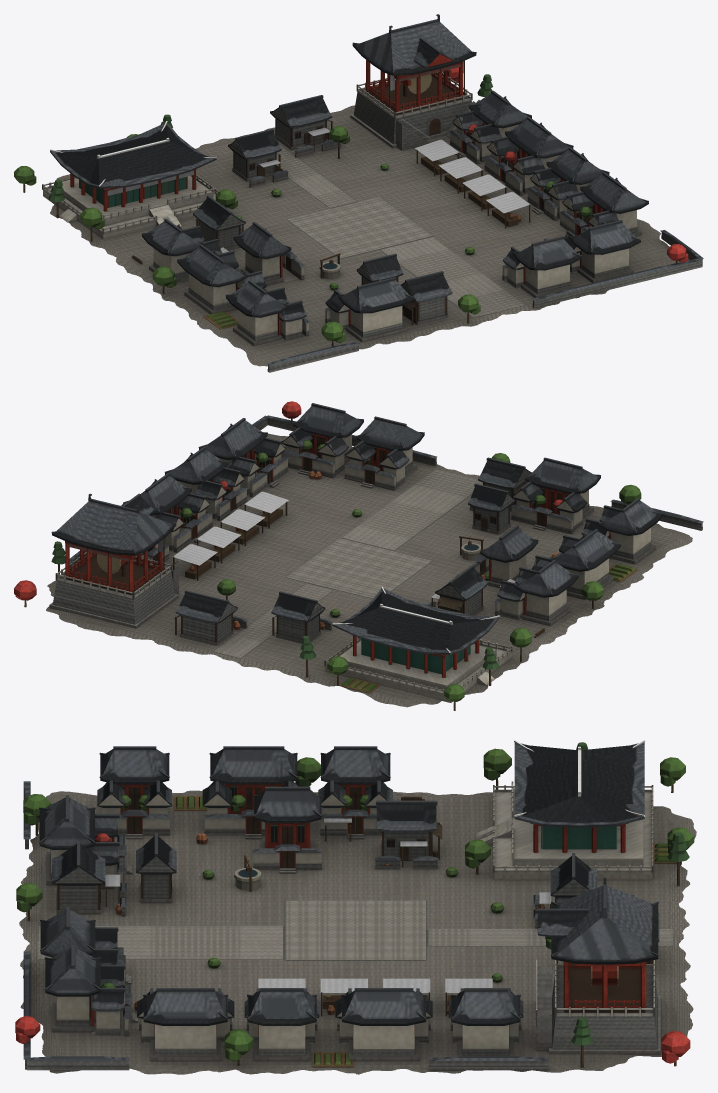
File: kingdoms-town-medium-a-korea.glb
The picture shows the model from 3 angles, top to bottom: view 1: azimuth 30°, elevation 25°; view 2: azimuth 150°, elevation 25°; view 3: azimuth 270°, elevation 25°; orthographic projection. The views are drawn at different scales.
Visible parts, largest first — view 1: LOD0; view 2: LOD0; view 3: LOD0.
Boxes of the visible parts, left/top/right/bottom form: LOD0: left=14, top=14, right=703, bottom=372; LOD0: left=14, top=401, right=703, bottom=710; LOD0: left=15, top=740, right=696, bottom=1074.
Size of what is drawn, in the model's own units: 6.04 by 1.33 by 6.09.
3 materials, 3 textured.
